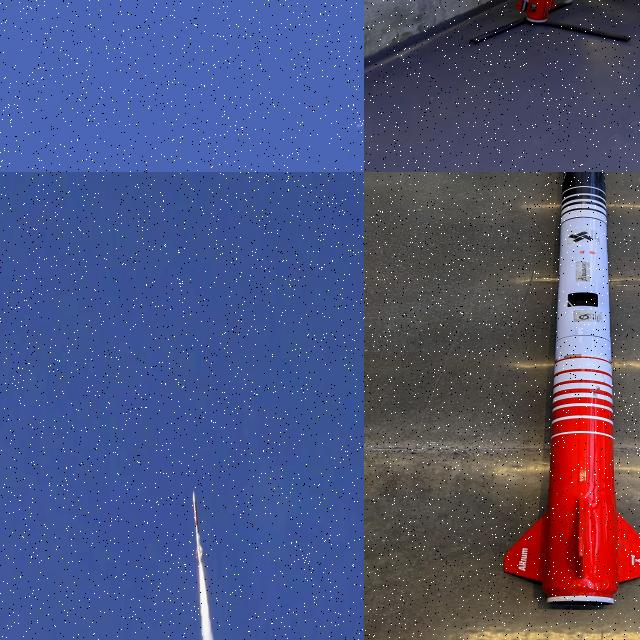Rocket: (503, 172, 640, 607), (193, 491, 203, 560), (357, 125, 360, 127)
